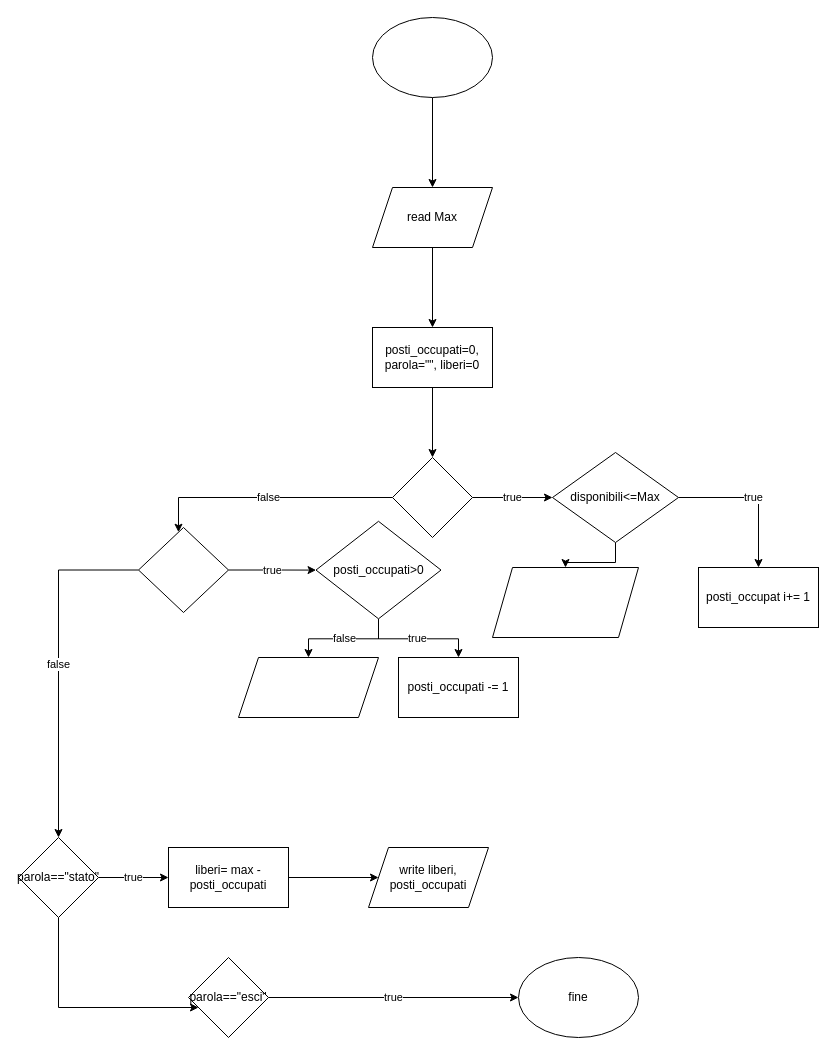
Some shapes in this 836 by 1055 pixel diagram are drawn without their labels. Each missing label, with the box of its shape:
inizio: (372, 16, 492, 98)
parola== "ingresso": (392, 456, 472, 538)
parola=="uscita": (138, 526, 228, 612)
write "nessun posto è occupato": (238, 656, 378, 718)
write "nessuna macchina è entrata": (492, 566, 638, 638)
